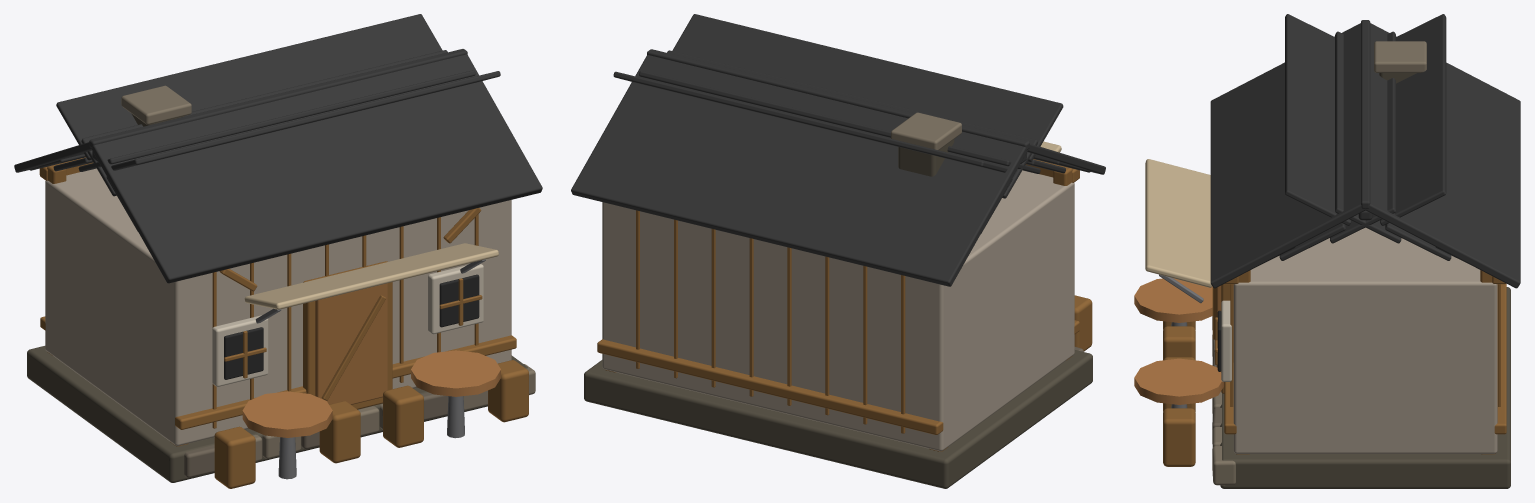
File: restaurant.glb
3 views of the same model, side by side, from view 1: azimuth 30°, elevation 25°; view 2: azimuth 150°, elevation 25°; view 3: azimuth 270°, elevation 25° (orthographic).
Visible parts, largest first — view 1: restaurant-farm-roof-slate, restaurant-farm-plaster, restaurant-farm-wood-dark, restaurant-farm-stone-dark, restaurant-farm-wood, restaurant-farm-wood-light, restaurant-farm-cloth, restaurant-farm-stone, restaurant-farm-trim, restaurant-farm-window, restaurant-farm-metal, restaurant-farm-rock; view 2: restaurant-farm-roof-slate, restaurant-farm-plaster, restaurant-farm-stone-dark, restaurant-farm-wood-dark, restaurant-farm-stone; view 3: restaurant-farm-roof-slate, restaurant-farm-plaster, restaurant-farm-stone-dark, restaurant-farm-cloth, restaurant-farm-wood-dark, restaurant-farm-wood-light, restaurant-farm-stone, restaurant-farm-trim, restaurant-farm-metal.
Boxes of the visible parts, bbox=[...] form: restaurant-farm-roof-slate: bbox=[14, 14, 542, 283]; restaurant-farm-plaster: bbox=[45, 168, 511, 445]; restaurant-farm-wood-dark: bbox=[39, 157, 528, 488]; restaurant-farm-stone-dark: bbox=[27, 113, 527, 482]; restaurant-farm-wood: bbox=[315, 283, 387, 404]; restaurant-farm-wood-light: bbox=[242, 350, 500, 437]; restaurant-farm-cloth: bbox=[244, 243, 498, 309]; restaurant-farm-stone: bbox=[121, 85, 535, 461]; restaurant-farm-trim: bbox=[212, 264, 483, 386]; restaurant-farm-window: bbox=[224, 274, 479, 379]; restaurant-farm-metal: bbox=[255, 259, 485, 479]; restaurant-farm-rock: bbox=[184, 392, 448, 477]; restaurant-farm-roof-slate: bbox=[571, 14, 1105, 286]; restaurant-farm-plaster: bbox=[602, 170, 1074, 451]; restaurant-farm-stone-dark: bbox=[584, 139, 1092, 488]; restaurant-farm-wood-dark: bbox=[597, 159, 1092, 451]; restaurant-farm-stone: bbox=[891, 112, 961, 150]; restaurant-farm-roof-slate: bbox=[1210, 14, 1520, 288]; restaurant-farm-plaster: bbox=[1233, 227, 1497, 453]; restaurant-farm-stone-dark: bbox=[1220, 73, 1510, 488]; restaurant-farm-cloth: bbox=[1145, 159, 1212, 287]; restaurant-farm-wood-dark: bbox=[1163, 270, 1506, 466]; restaurant-farm-wood-light: bbox=[1134, 278, 1224, 404]; restaurant-farm-stone: bbox=[1212, 41, 1426, 485]; restaurant-farm-trim: bbox=[1221, 300, 1231, 381]; restaurant-farm-metal: bbox=[1159, 274, 1203, 408].
Bounding box in the file's own units: 5.57 × 4.27 × 4.98.
